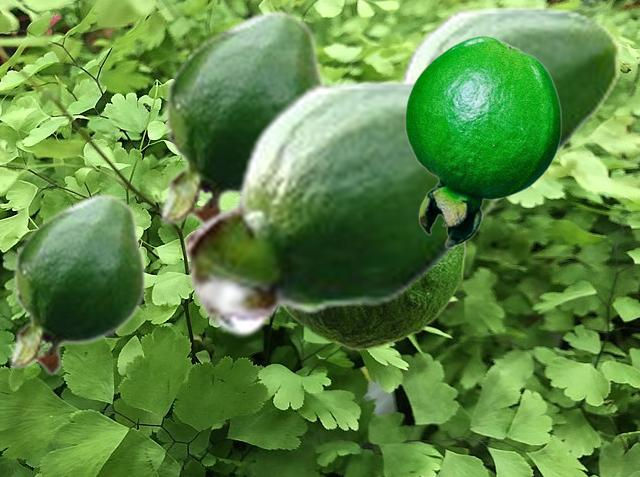guava: (183, 77, 508, 337), (159, 8, 326, 231), (395, 4, 623, 162), (404, 35, 561, 247), (9, 192, 145, 376), (281, 243, 466, 350)
